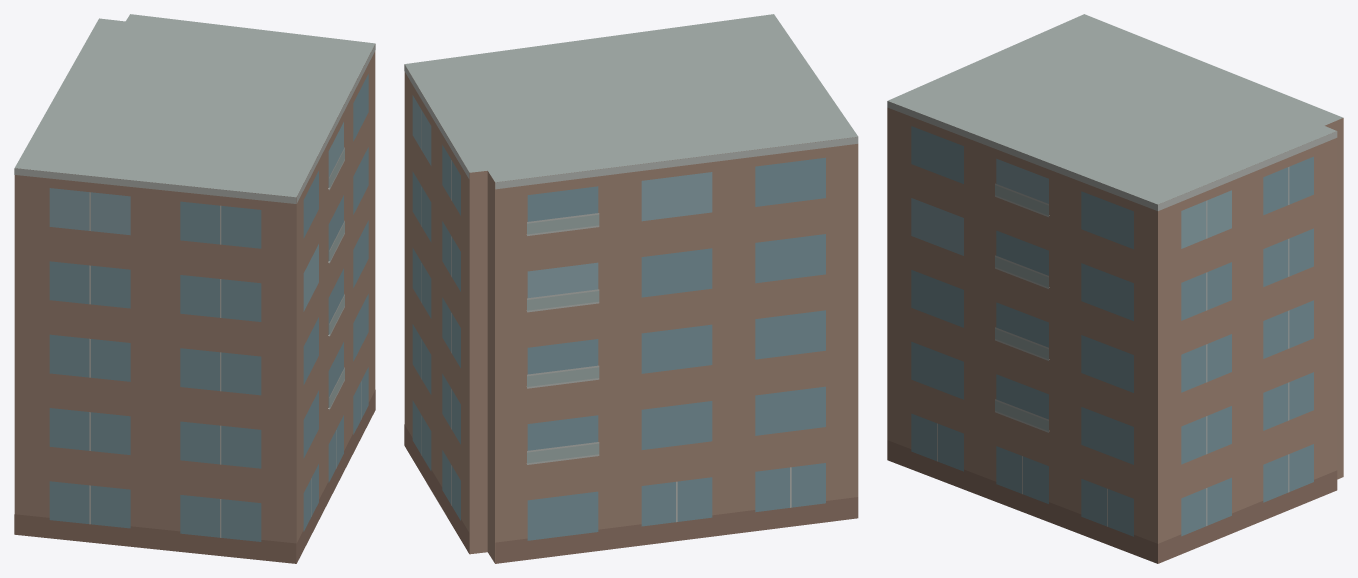
The model's file is survey-upis-32837599.glb.
3 renders of one model, left to right at view 1: azimuth 30°, elevation 25°; view 2: azimuth 150°, elevation 25°; view 3: azimuth 270°, elevation 25°, orthographic. The views are drawn at different scales.
Parts seen in each view (by area): view 1: survey-upis-32837599.tmp; view 2: survey-upis-32837599.tmp; view 3: survey-upis-32837599.tmp.
Part boxes in pixels (<box>): survey-upis-32837599.tmp: <box>14,14,375,563</box>; survey-upis-32837599.tmp: <box>404,14,858,563</box>; survey-upis-32837599.tmp: <box>887,14,1343,563</box>.
Bounding box in the file's own units: 15.03 × 13.2 × 15.2.
